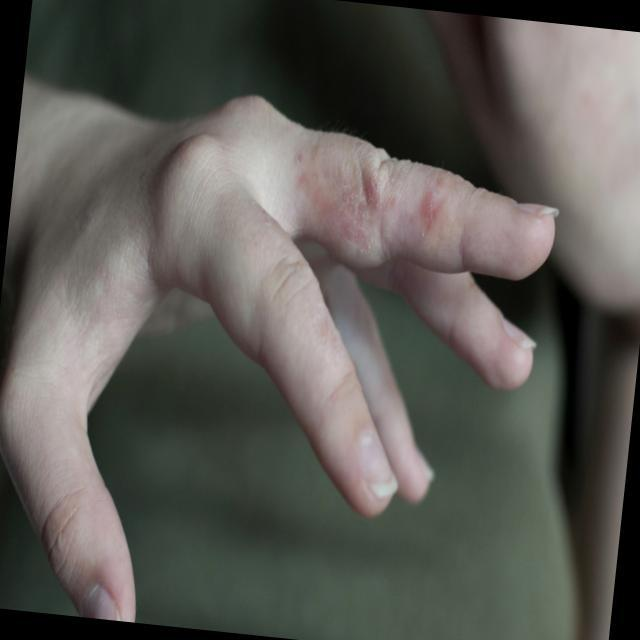Eczema: (290, 153, 452, 270)
